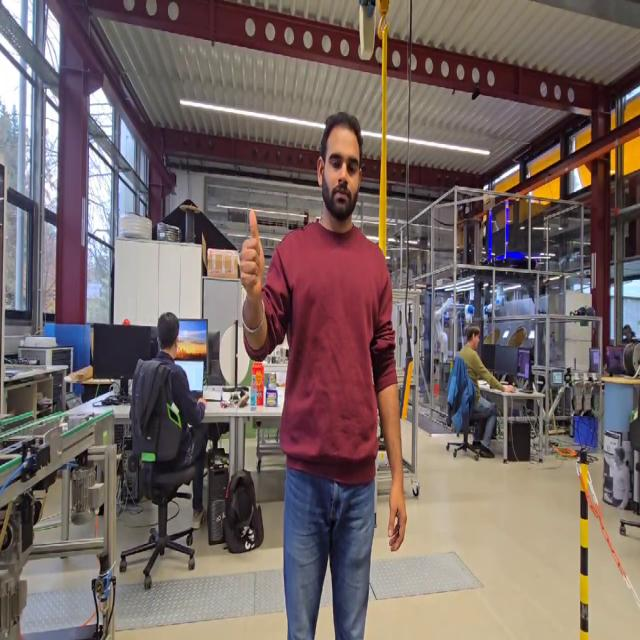thumbs_up: (235, 203, 268, 305)
